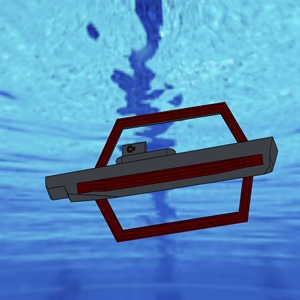submarine: (37, 81, 294, 254)
